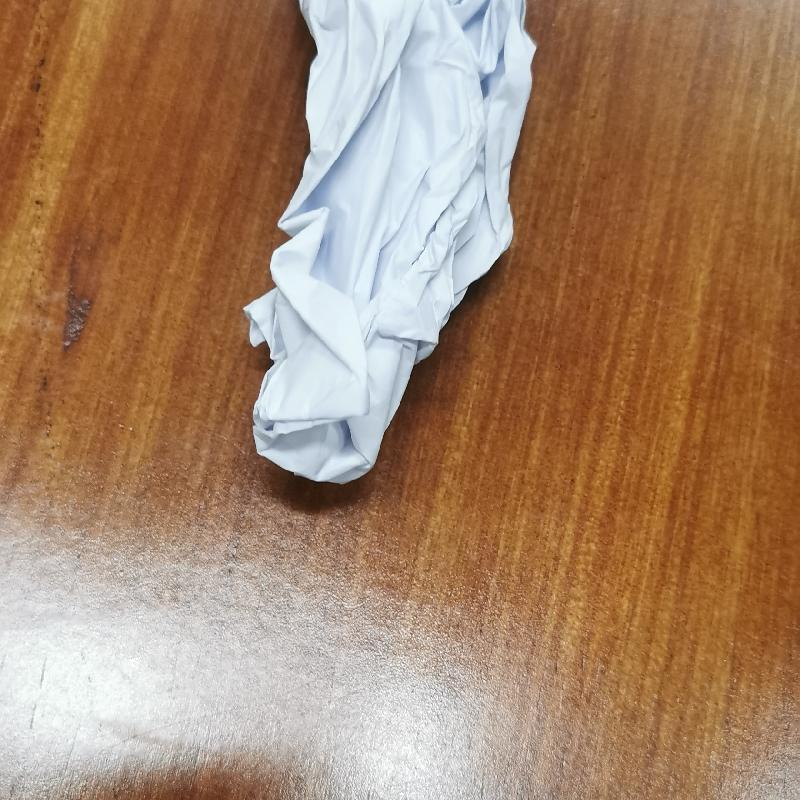spitball: (236, 1, 538, 496)
